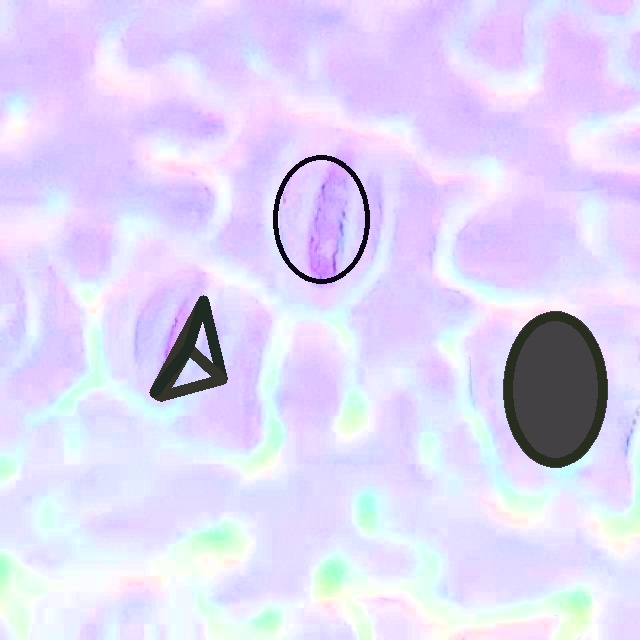open: (504, 311, 607, 468), (272, 154, 370, 284), (149, 295, 226, 400)
